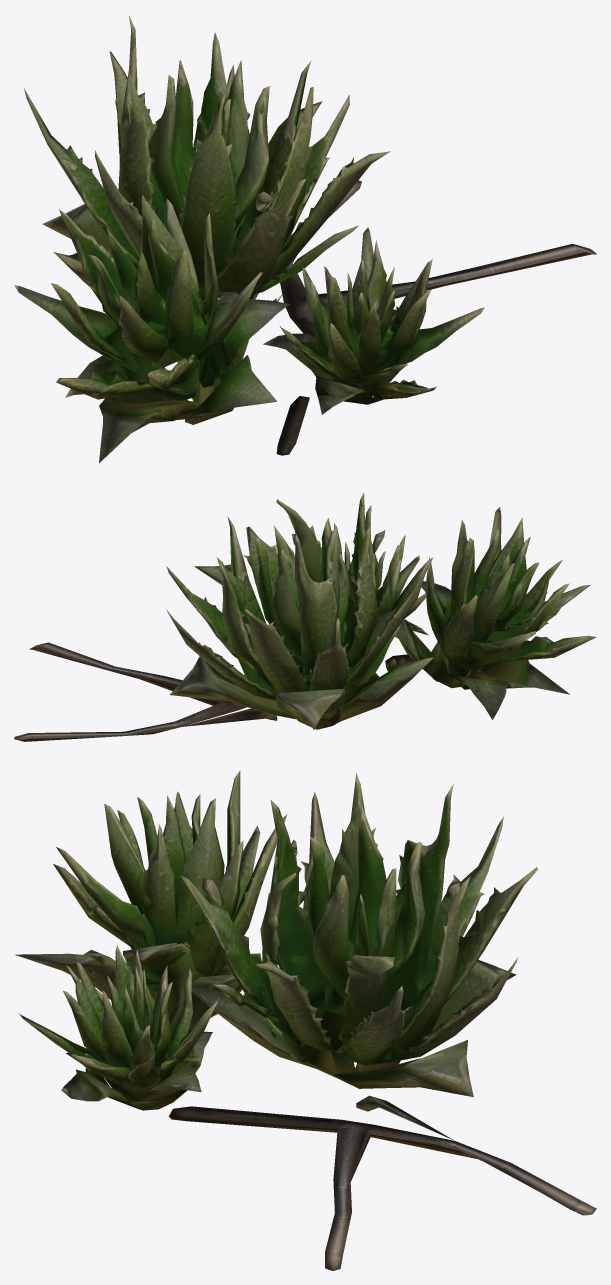
The model's file is sand_shard.glb.
The picture shows the model from 3 angles, top to bottom: view 1: azimuth 30°, elevation 25°; view 2: azimuth 150°, elevation 25°; view 3: azimuth 270°, elevation 25°; orthographic projection. The views are drawn at different scales.
Parts seen in each view (by area): view 1: world; view 2: world; view 3: world.
Part boxes in pixels (x1,y1,x2,y2): world: (14,15,596,462); world: (14,493,596,741); world: (15,770,596,1270).
Bounding box in the file's own units: 0.998 × 0.4395 × 0.7949.
Materials: 1 (1 with a texture image).
